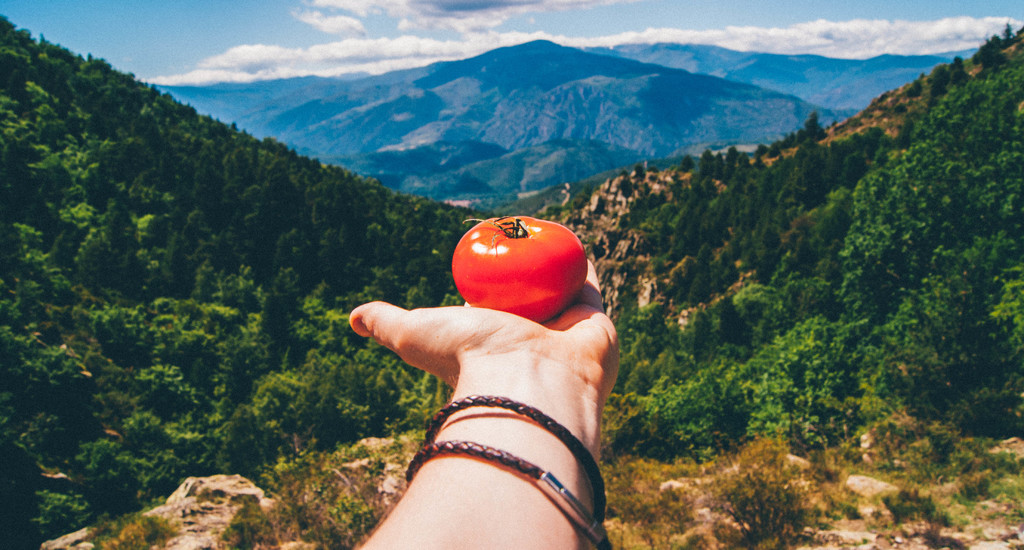Tomato: (444, 212, 590, 325)
